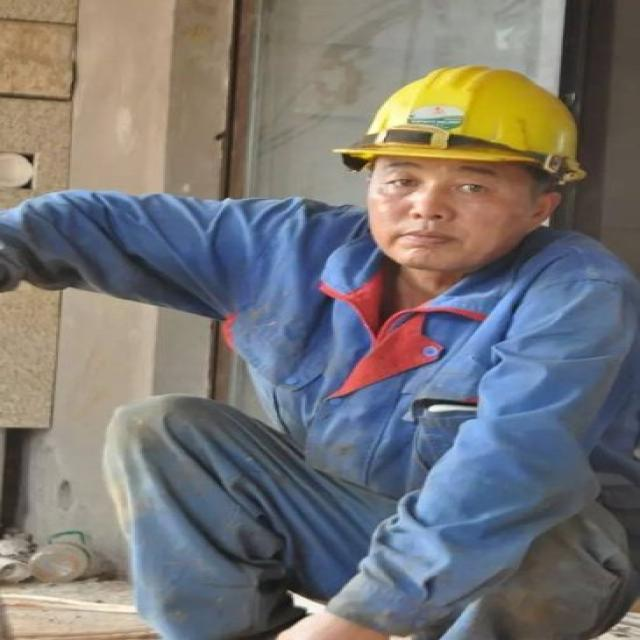helmet: (322, 64, 592, 275)
